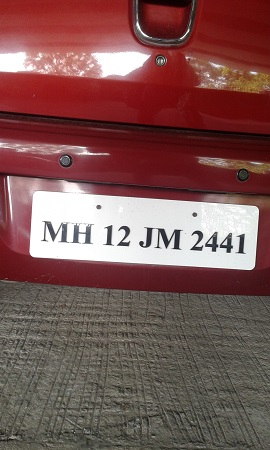licenseplate: (26, 186, 260, 272)
